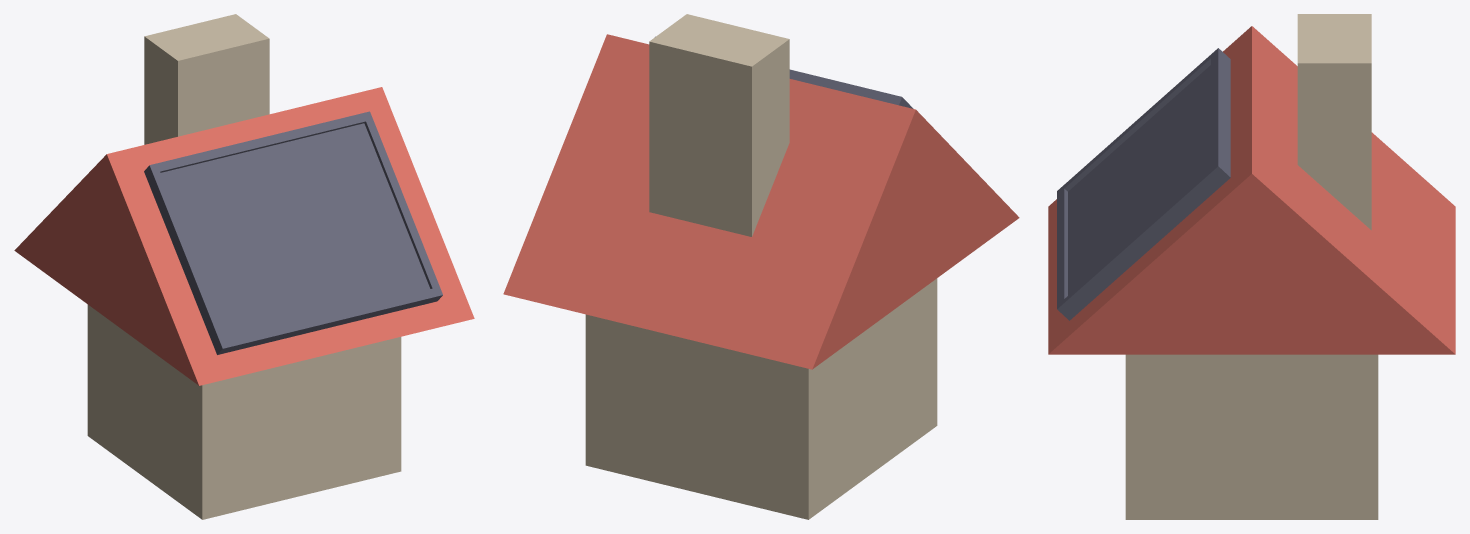
Rendered from Huisje_zonnepaneel.fbx.
3 views of the same model, side by side, from view 1: azimuth 30°, elevation 25°; view 2: azimuth 150°, elevation 25°; view 3: azimuth 270°, elevation 25° (orthographic). The views are drawn at different scales.
Parts seen in each view (by area): view 1: Huis_2; view 2: Huis_2; view 3: Huis_2.
Part boxes in pixels (<box>): Huis_2: <box>14,14,474,519</box>; Huis_2: <box>503,14,1019,519</box>; Huis_2: <box>1048,14,1455,519</box>.
Size of the model in its own units: 0.5374 by 0.725 by 0.6251.
